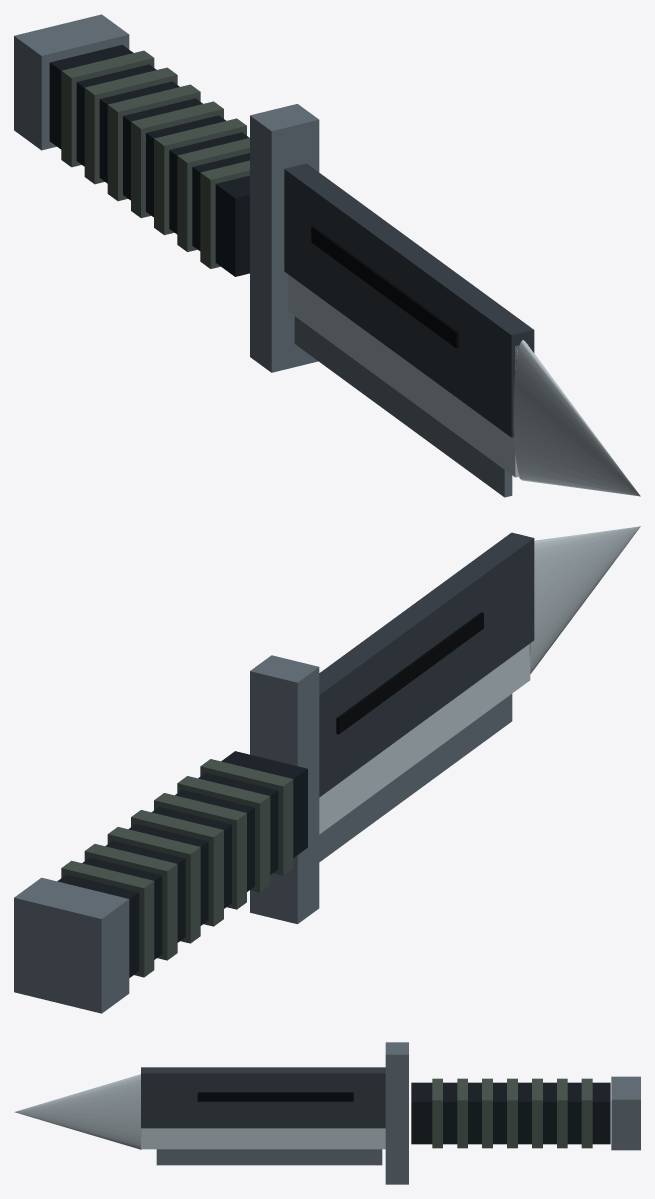
Rendered from FSA_WPN_Melee_001_Fang.glb.
3 renders of one model, top to bottom at view 1: azimuth 30°, elevation 25°; view 2: azimuth 150°, elevation 25°; view 3: azimuth 270°, elevation 25°, orthographic. The views are drawn at different scales.
Visible parts, largest first — view 1: BladeSpine, Handle, Guard, BladeTip, BladeFace, Pommel, BladeBevel, Fuller_-1, HandleRib_0, HandleRib_1, HandleRib_2, HandleRib_4 (+3 smaller); view 2: BladeSpine, Pommel, Handle, Guard, BladeFace, BladeTip, BladeBevel, Fuller_-1, HandleRib_1, HandleRib_0, HandleRib_2, HandleRib_5 (+3 smaller); view 3: BladeSpine, Handle, BladeFace, BladeTip, BladeBevel, Guard, Pommel, Fuller_1, HandleRib_0, HandleRib_1, HandleRib_2, HandleRib_3 (+3 smaller).
Boxes of the visible parts, x1,y1,x2,y2 form: BladeSpine: [284, 163, 534, 437]; Handle: [49, 45, 249, 276]; Guard: [250, 104, 319, 372]; BladeTip: [513, 340, 640, 496]; BladeFace: [288, 274, 528, 477]; Pommel: [14, 14, 129, 150]; BladeBevel: [294, 316, 512, 497]; Fuller_-1: [311, 226, 458, 348]; HandleRib_0: [61, 50, 154, 167]; HandleRib_1: [84, 67, 177, 184]; HandleRib_2: [107, 84, 200, 201]; HandleRib_4: [154, 118, 246, 235]; BladeSpine: [319, 532, 534, 797]; Pommel: [14, 877, 129, 1013]; Handle: [57, 751, 307, 977]; Guard: [250, 655, 319, 924]; BladeFace: [319, 644, 530, 834]; BladeTip: [529, 526, 640, 673]; BladeBevel: [319, 694, 512, 862]; Fuller_-1: [336, 612, 483, 734]; HandleRib_1: [84, 844, 177, 960]; HandleRib_0: [61, 860, 154, 977]; HandleRib_2: [107, 827, 200, 943]; HandleRib_5: [177, 776, 270, 892]; BladeSpine: [141, 1067, 385, 1128]; Handle: [411, 1082, 610, 1144]; BladeFace: [141, 1128, 385, 1149]; BladeTip: [14, 1074, 141, 1149]; BladeBevel: [156, 1149, 382, 1165]; Guard: [385, 1042, 408, 1184]; Pommel: [611, 1076, 640, 1150]; Fuller_1: [197, 1092, 353, 1101]; HandleRib_0: [581, 1078, 592, 1148]; HandleRib_1: [557, 1078, 567, 1148]; HandleRib_2: [532, 1078, 542, 1148]; HandleRib_3: [507, 1078, 517, 1148].
Bounding box in the file's own units: 0.035 × 0.092 × 0.4025.
